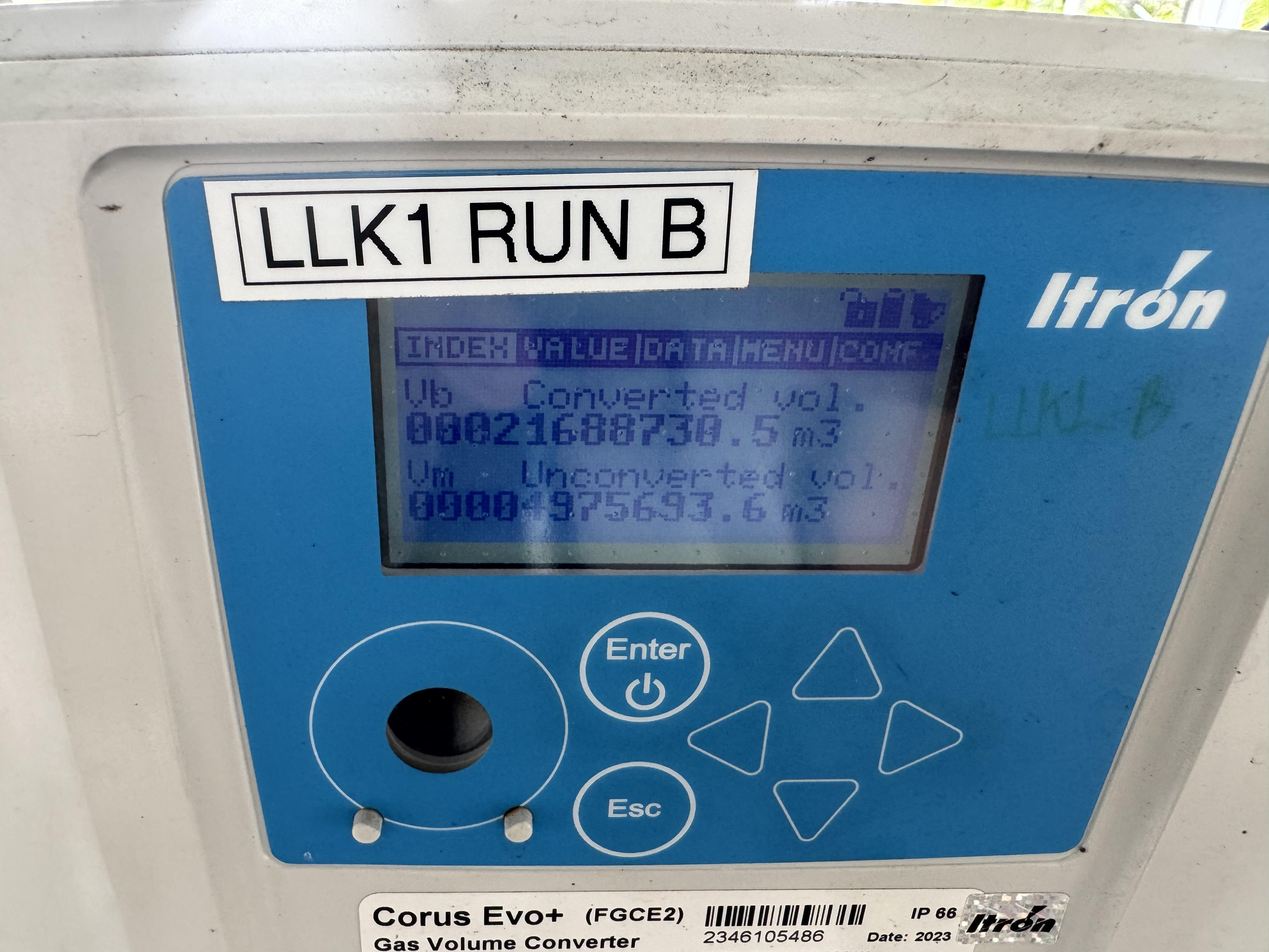digital_screen: (366, 272, 985, 575)
